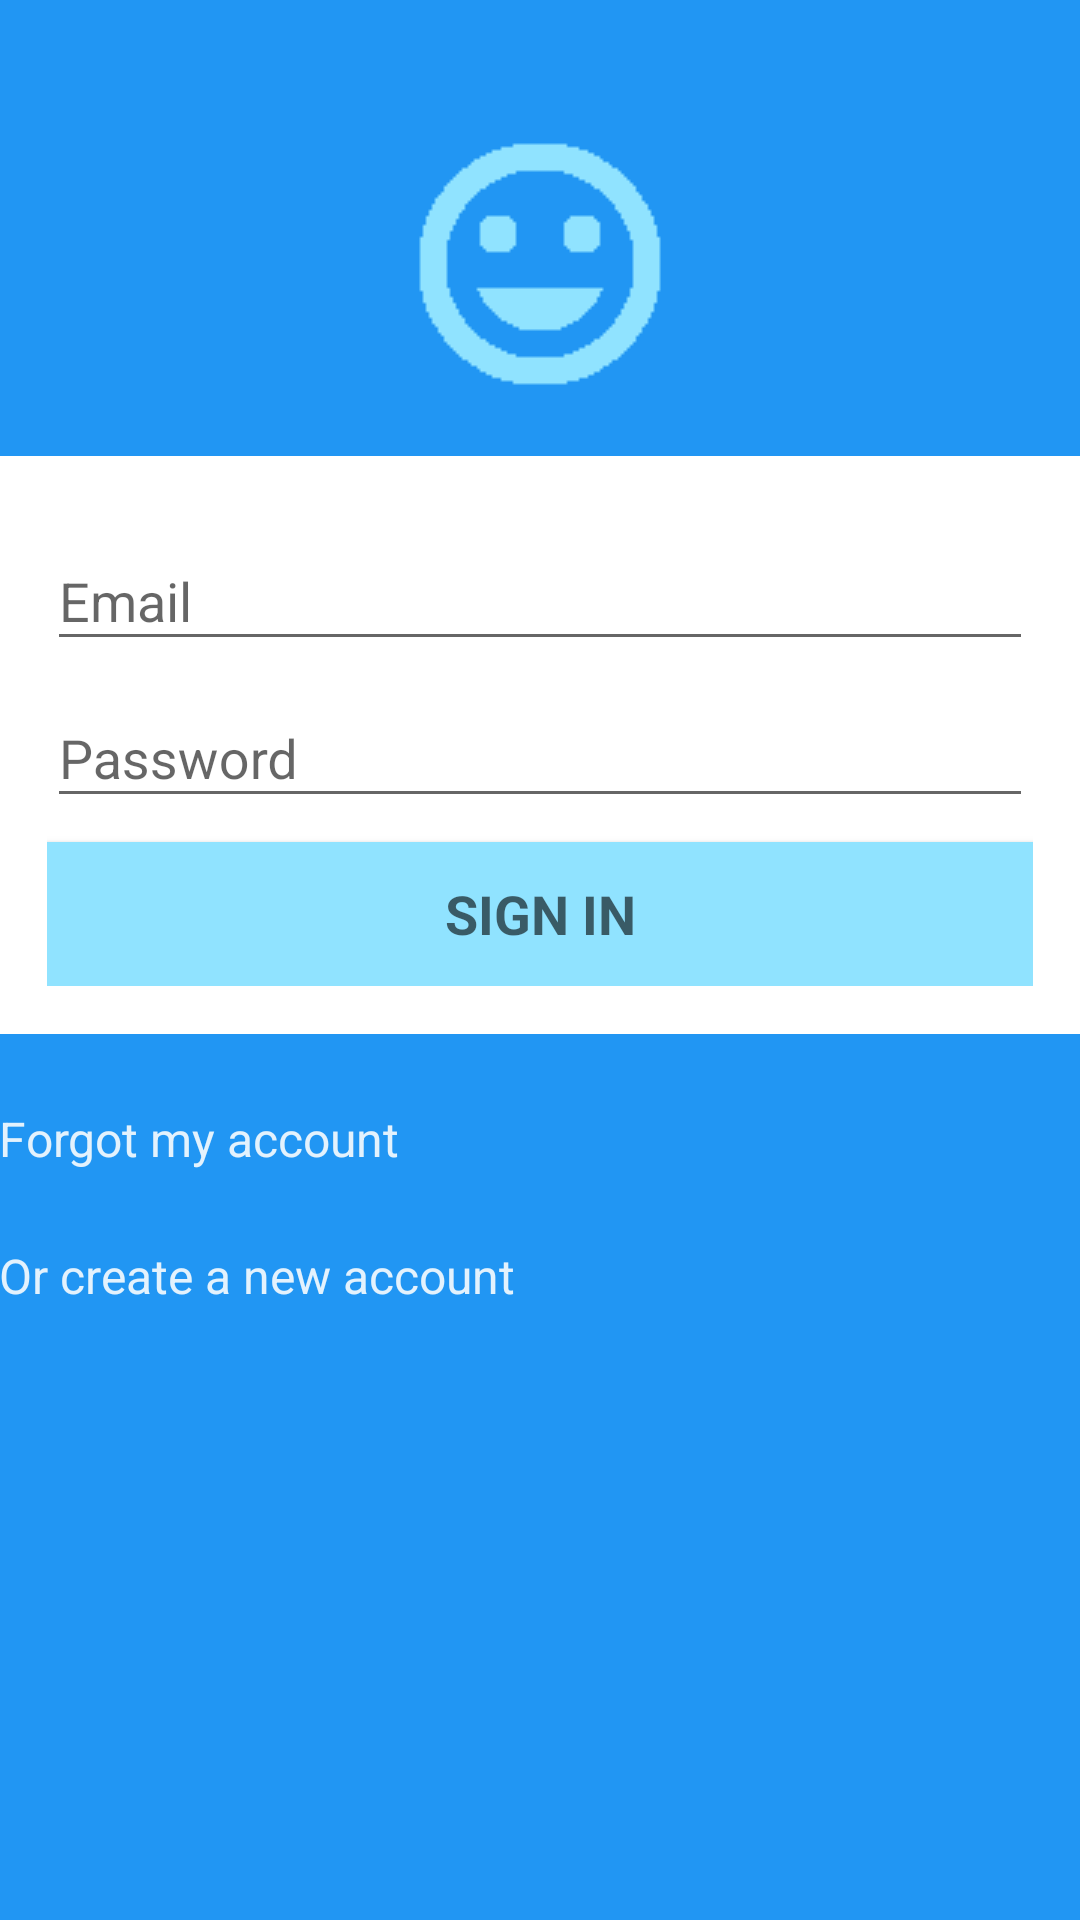

Where to tap for icons on this 1080w x 1920h app screen, as (x=x, y=y):
tag faces: (x=540, y=264)
